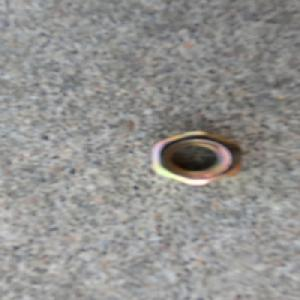Nut: (146, 129, 241, 186)
